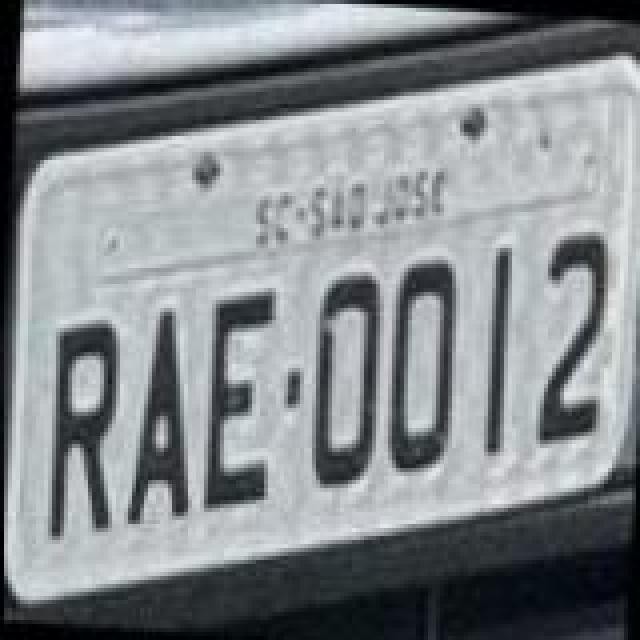1: (478, 242, 518, 458)
2: (530, 222, 610, 450)
A: (118, 306, 198, 530)
E: (200, 284, 280, 520)
O: (302, 262, 386, 490), (378, 250, 462, 478)
R: (40, 312, 124, 544)
